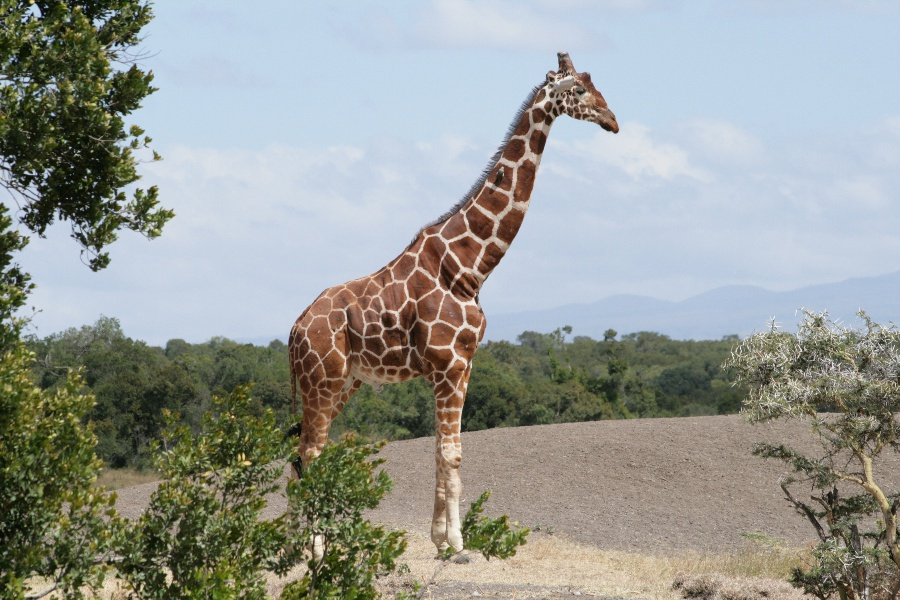giraffe: (247, 45, 623, 566)
